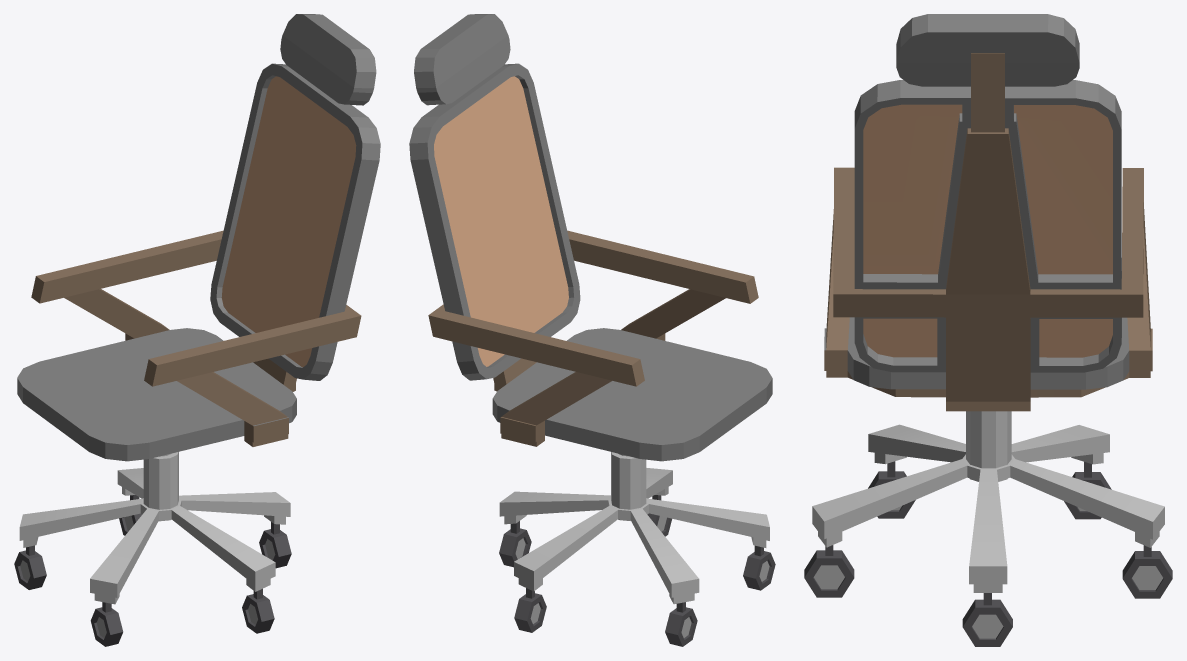
Rendered from Office Chair.fbx.
The picture shows the model from 3 angles, left to right: view 1: azimuth 30°, elevation 25°; view 2: azimuth 150°, elevation 25°; view 3: azimuth 270°, elevation 25°; orthographic projection. The views are drawn at different scales.
Visible parts, largest first — view 1: chair, chair.001, wheel.002, wheel.001, wheel.003, wheel.004; view 2: chair, chair.001, wheel.002, wheel.001, wheel, wheel.004; view 3: chair, chair.001, wheel.004, wheel, wheel.003, wheel.002, wheel.001.
Boxes of the visible parts, box(x1,y1,x2,y2) form: chair: box(17, 14, 380, 461); chair.001: box(19, 452, 290, 604); wheel.002: box(90, 602, 123, 646); wheel.001: box(14, 545, 46, 589); wheel.003: box(242, 588, 274, 633); wheel.004: box(259, 522, 291, 568); chair: box(409, 14, 772, 461); chair.001: box(499, 452, 769, 604); wheel.002: box(743, 545, 775, 590); wheel.001: box(665, 602, 697, 646); wheel: box(514, 588, 546, 632); wheel.004: box(499, 521, 531, 567); chair: box(824, 14, 1152, 411); chair.001: box(812, 411, 1164, 592); wheel.004: box(962, 593, 1012, 646); wheel: box(1122, 545, 1172, 598); wheel.003: box(804, 545, 854, 597); wheel.002: box(868, 461, 915, 518); wheel.001: box(1064, 462, 1111, 519).
Bounding box in the file's own units: 484 × 824 × 416.
